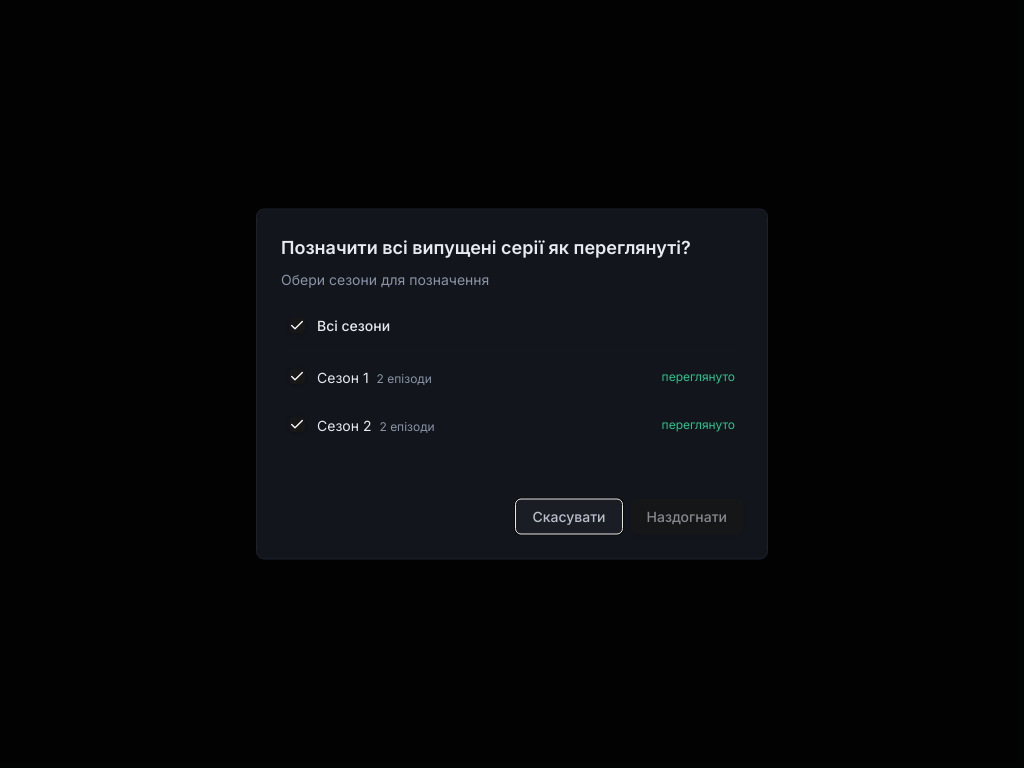
Scenario: CatchUpDialog › summary live region › shows willBeUnmarked text when a fully-watched season is deselected
The image size is (1024, 768).
// Uncheck S1 (fully watched)
Click the checkbox next to "Сезон 1" at point(297, 376), box [289,368,305,384]
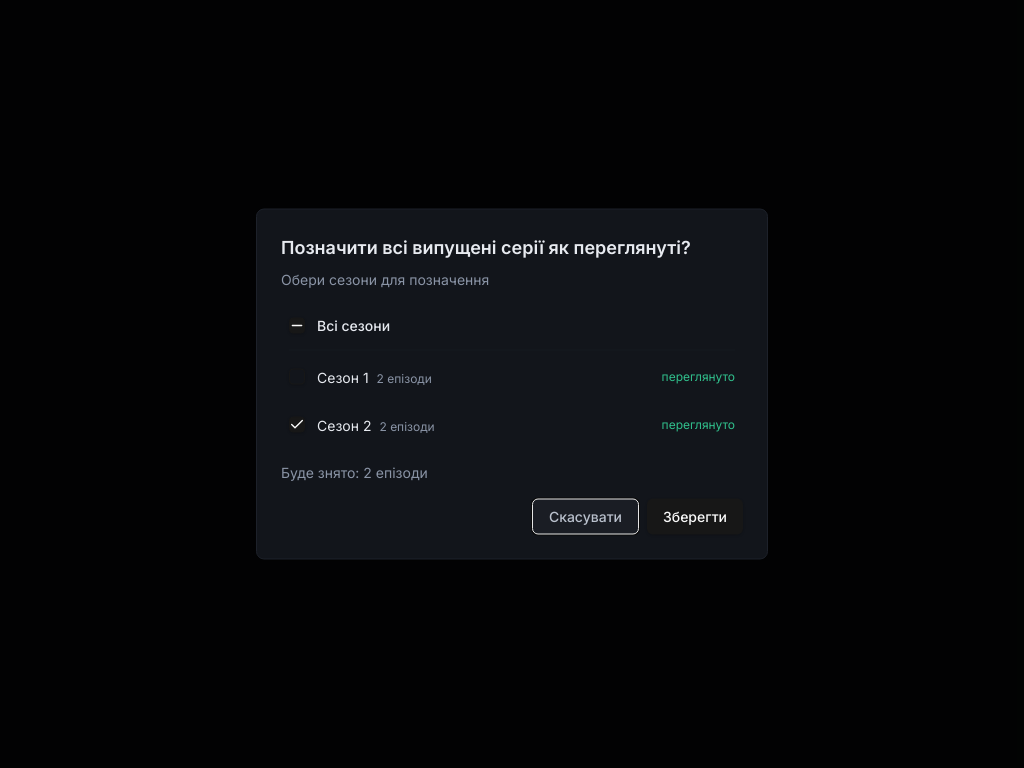
Result: the message shows "Буде знято: 2" at [281,464,428,480]
